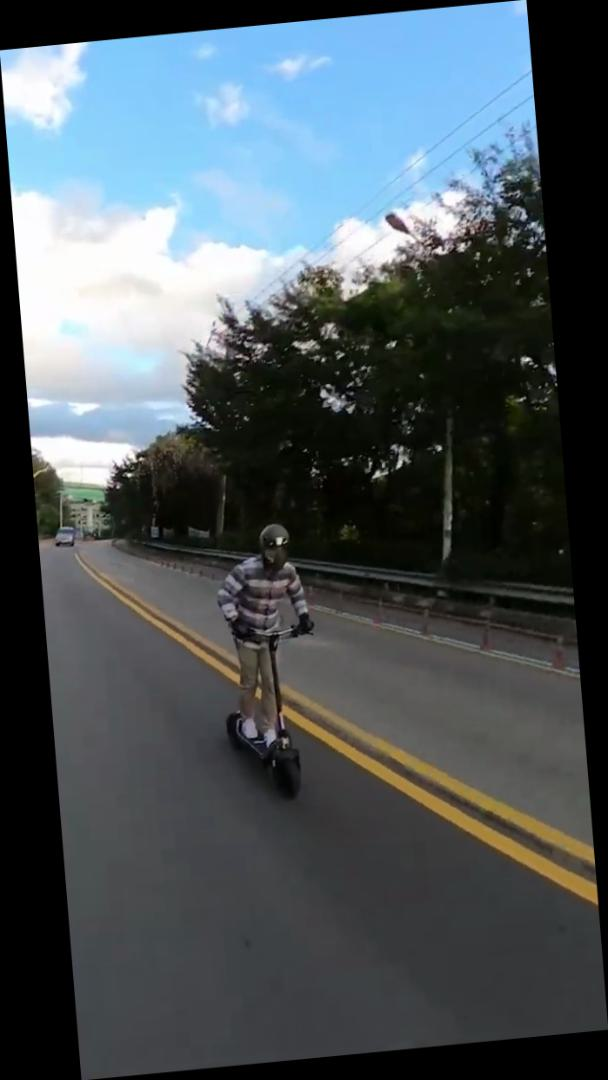helmet: (208, 514, 332, 807)
